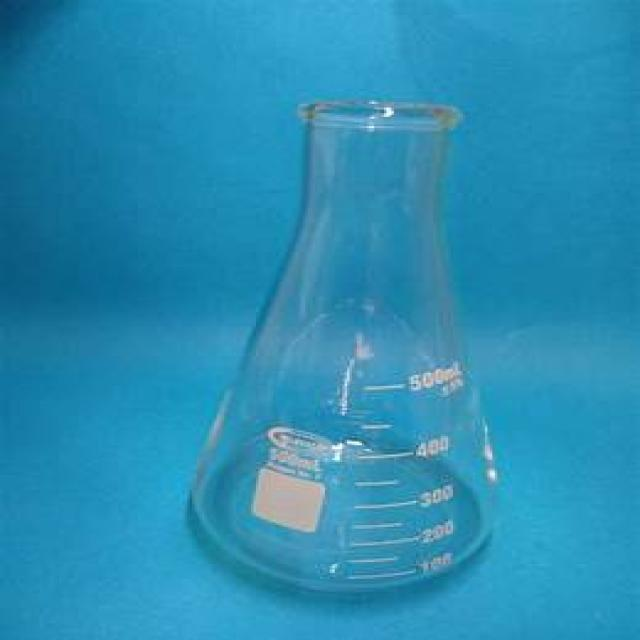Titrarion: (192, 101, 503, 593)
